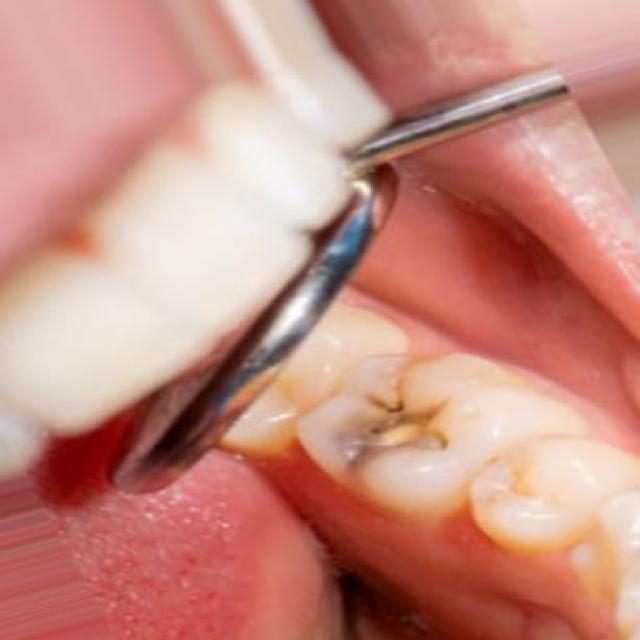caries: (309, 380, 501, 488)
